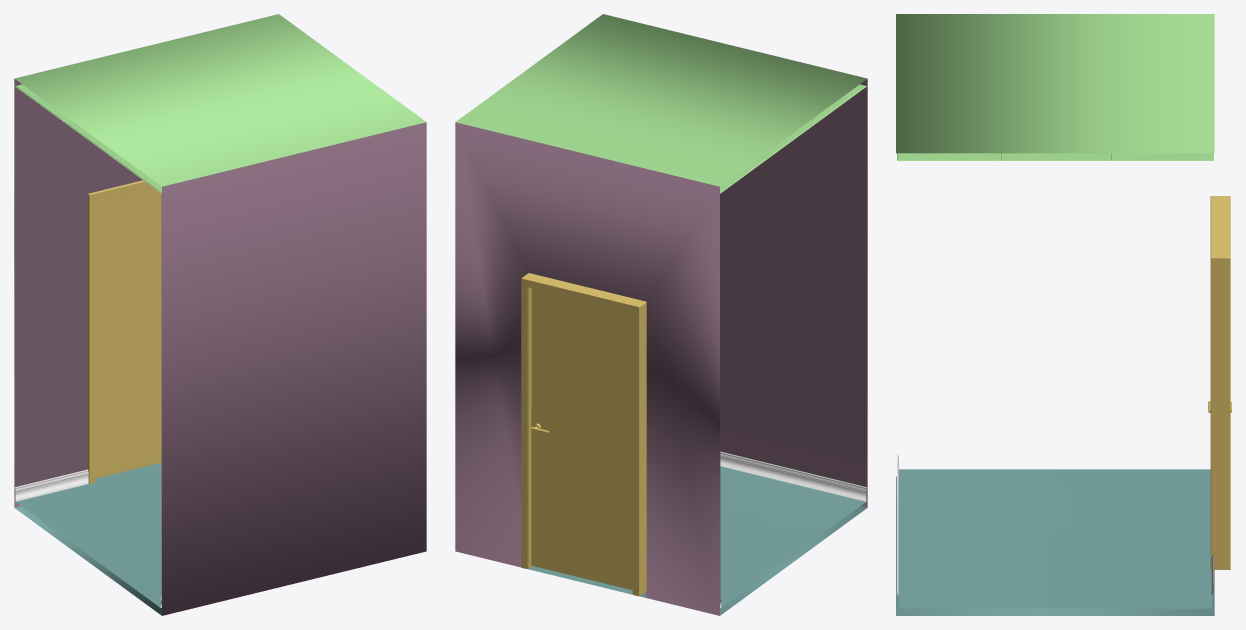
Rendered from Corridor_1_door_w_light.fbx.
3 renders of one model, left to right at view 1: azimuth 30°, elevation 25°; view 2: azimuth 150°, elevation 25°; view 3: azimuth 270°, elevation 25°, orthographic. The views are drawn at different scales.
Parts seen in each view (by area): view 1: Corridor_wall_door_1_hole, Door, Doorframe, Corridor_ceiling_w_light; view 2: Corridor_wall_door_1_hole, Door, Doorframe, Corridor_ceiling_w_light; view 3: Corridor_wall_door_1_hole, Doorframe, Corridor_ceiling_w_light.
Part boxes in pixels (x1=…): Corridor_wall_door_1_hole: x1=14, y1=14, x2=426, y2=615; Door: x1=94, y1=185, x2=161, y2=478; Doorframe: x1=87, y1=180, x2=149, y2=484; Corridor_ceiling_w_light: x1=15, y1=84, x2=161, y2=193; Corridor_wall_door_1_hole: x1=455, y1=14, x2=867, y2=615; Door: x1=531, y1=288, x2=632, y2=590; Doorframe: x1=521, y1=273, x2=646, y2=596; Corridor_ceiling_w_light: x1=720, y1=84, x2=866, y2=193; Corridor_wall_door_1_hole: x1=896, y1=14, x2=1214, y2=615; Doorframe: x1=1210, y1=196, x2=1230, y2=569; Corridor_ceiling_w_light: x1=897, y1=153, x2=1213, y2=160.
Bounding box in the file's own units: 2 × 3.1 × 2.04.
